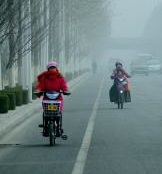person: (31, 59, 72, 147), (109, 60, 132, 110), (91, 60, 98, 74)
